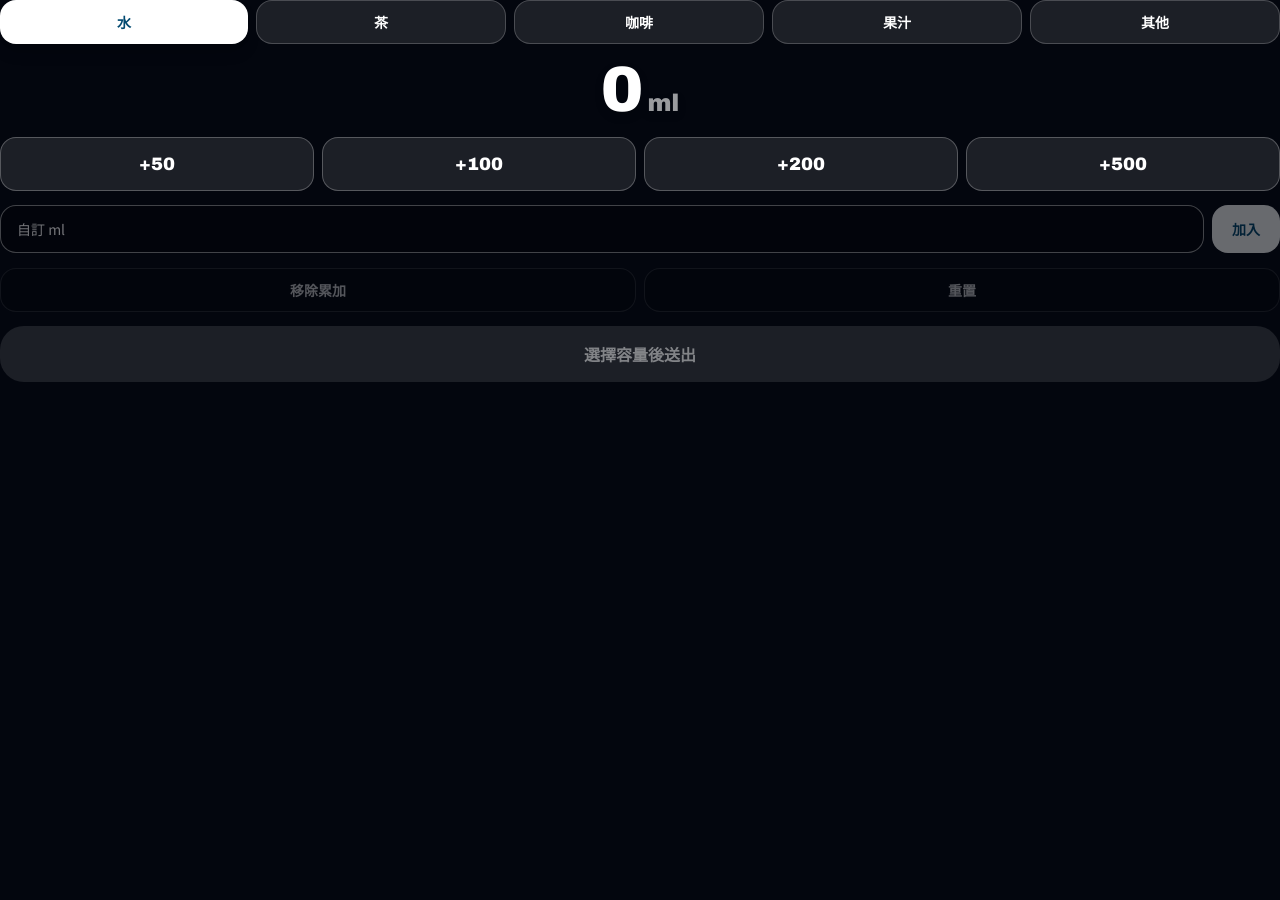
Scenario: DrinkLogger — overflow dialog (>2000ml) › shows overflow dialog when total exceeds 2000
Click the button "+500".
click(1123, 164)  # box [966, 137, 1279, 191]
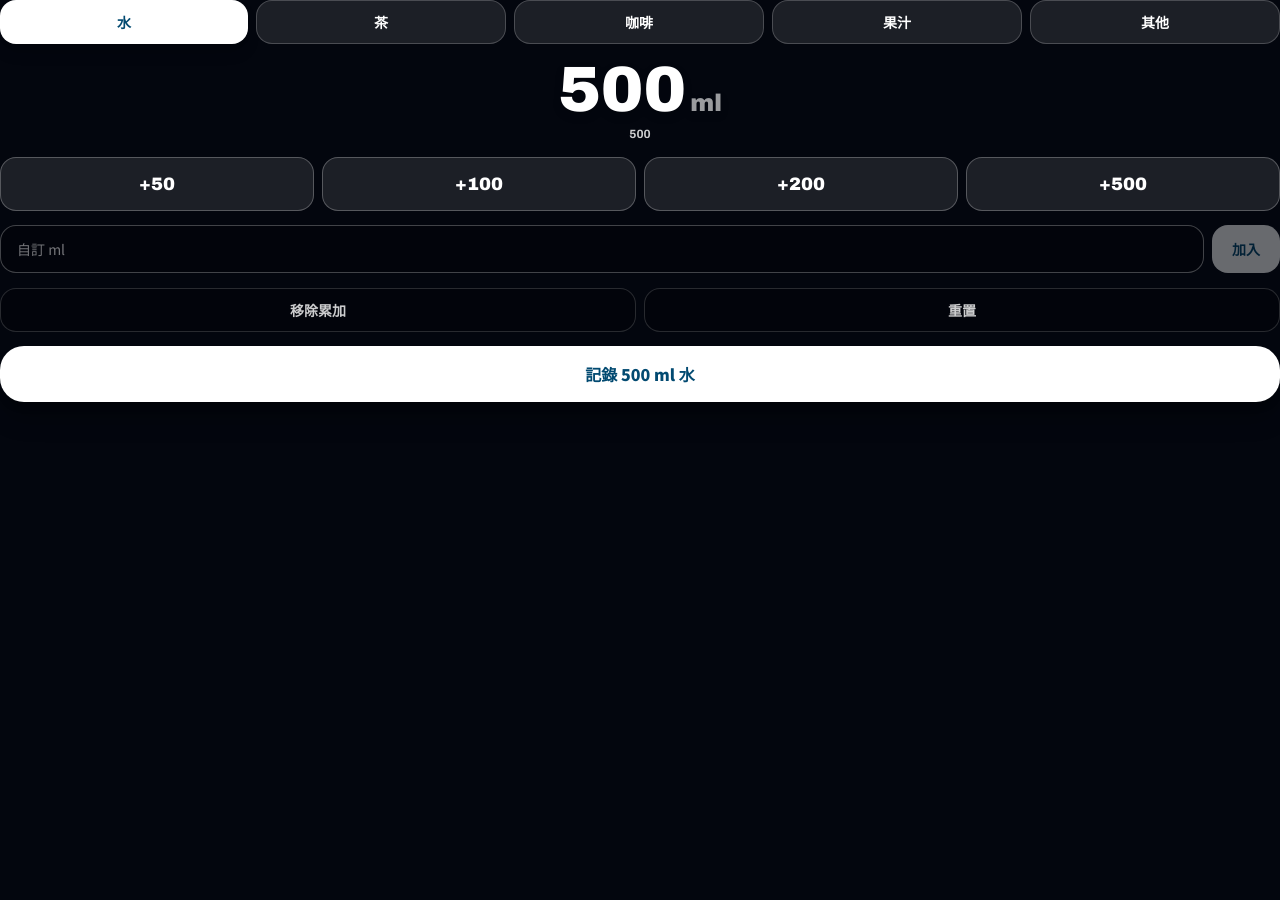
Click the button "+500".
click(1123, 184)  # box [966, 157, 1279, 211]
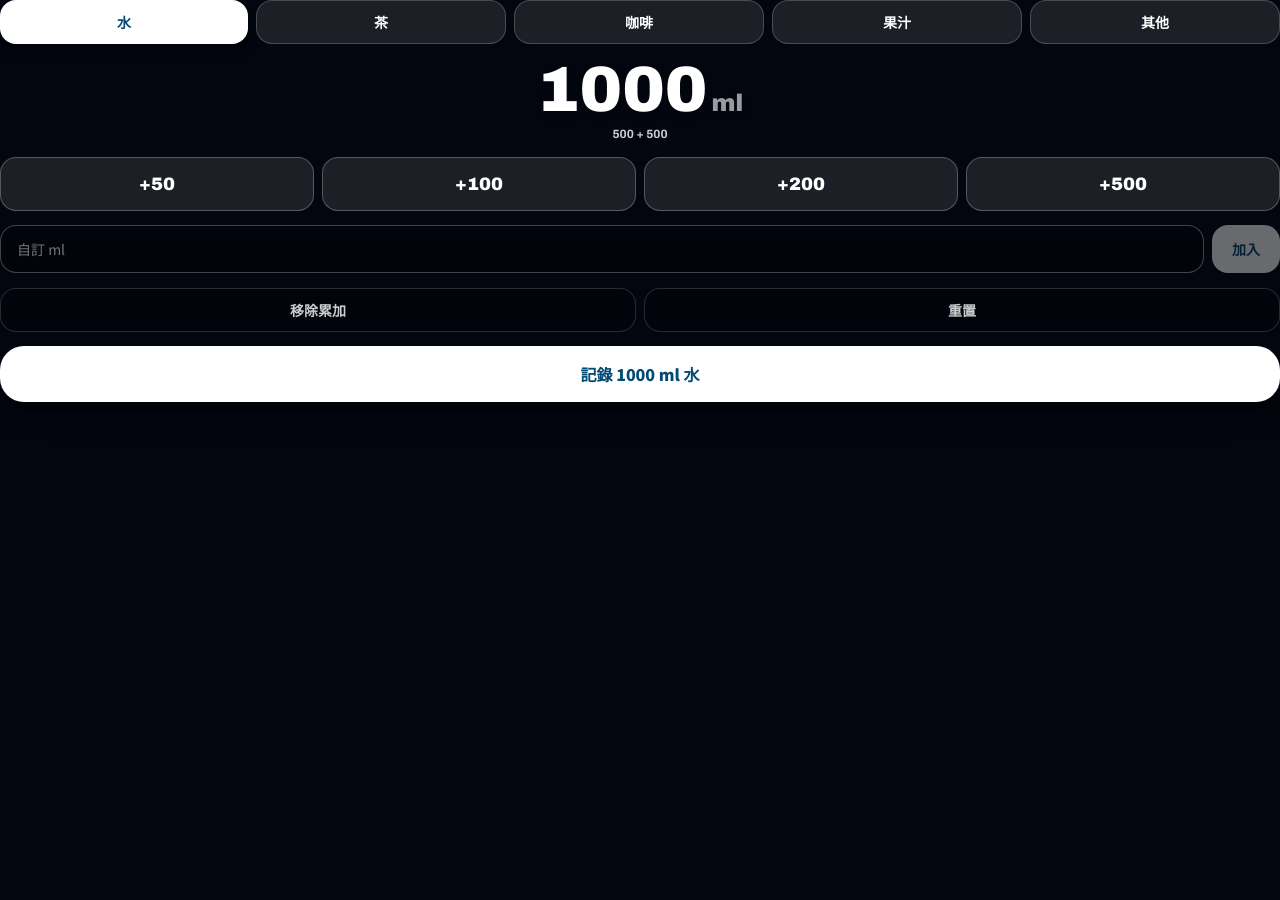
Click the button "+500".
click(1123, 184)  # box [966, 157, 1279, 211]
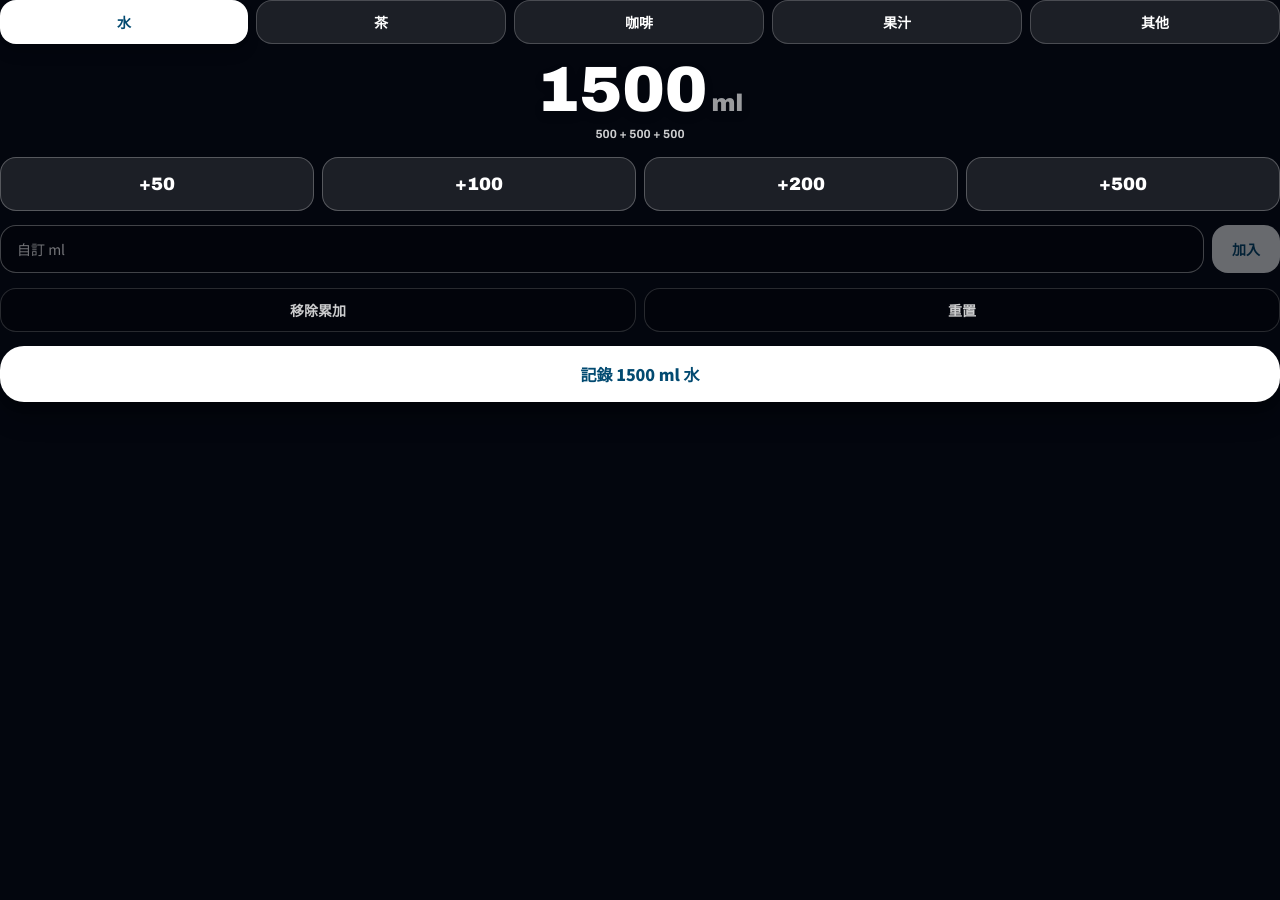
Click the button "+500".
click(1123, 184)  # box [966, 157, 1279, 211]
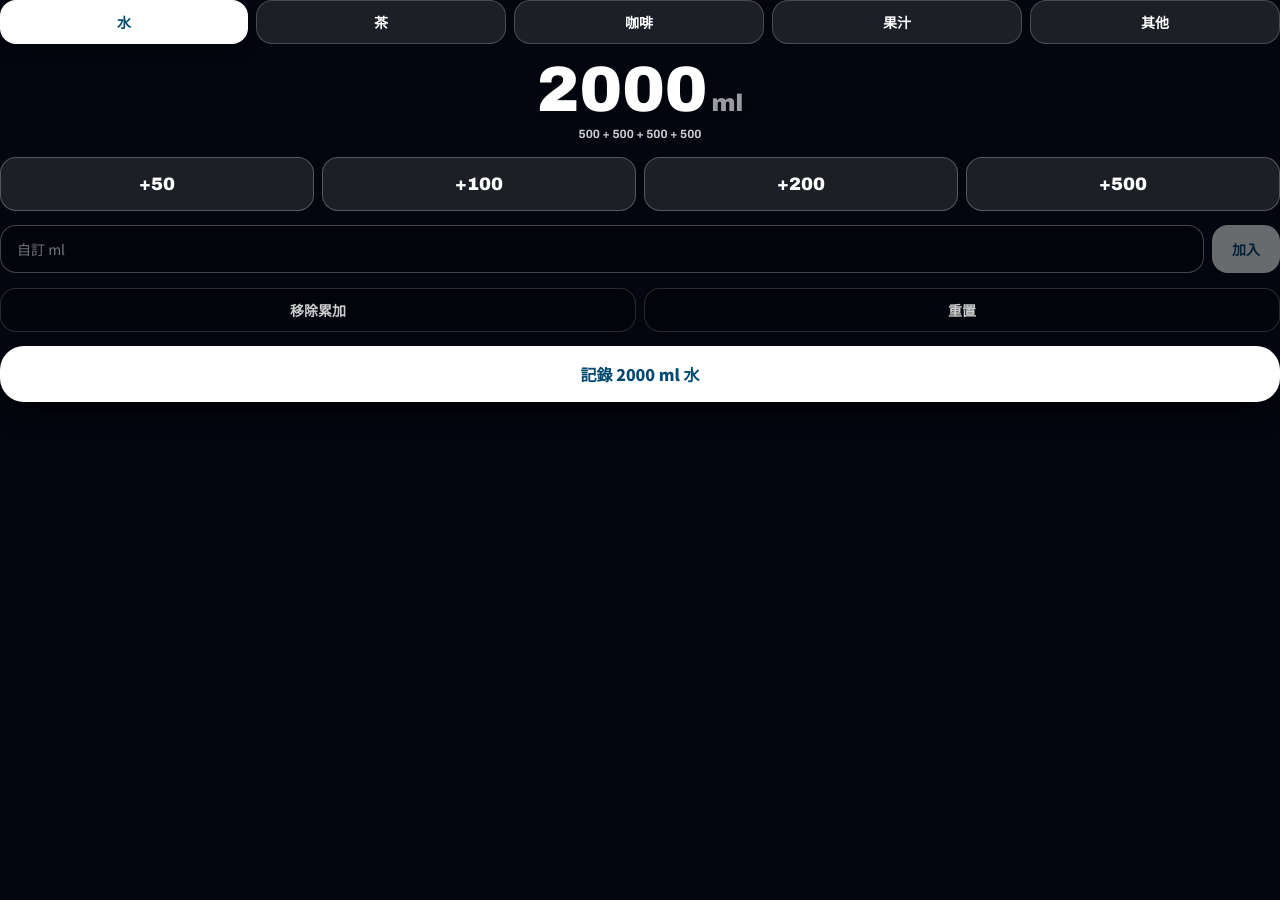
Click the button "+500".
click(1123, 184)  # box [966, 157, 1279, 211]
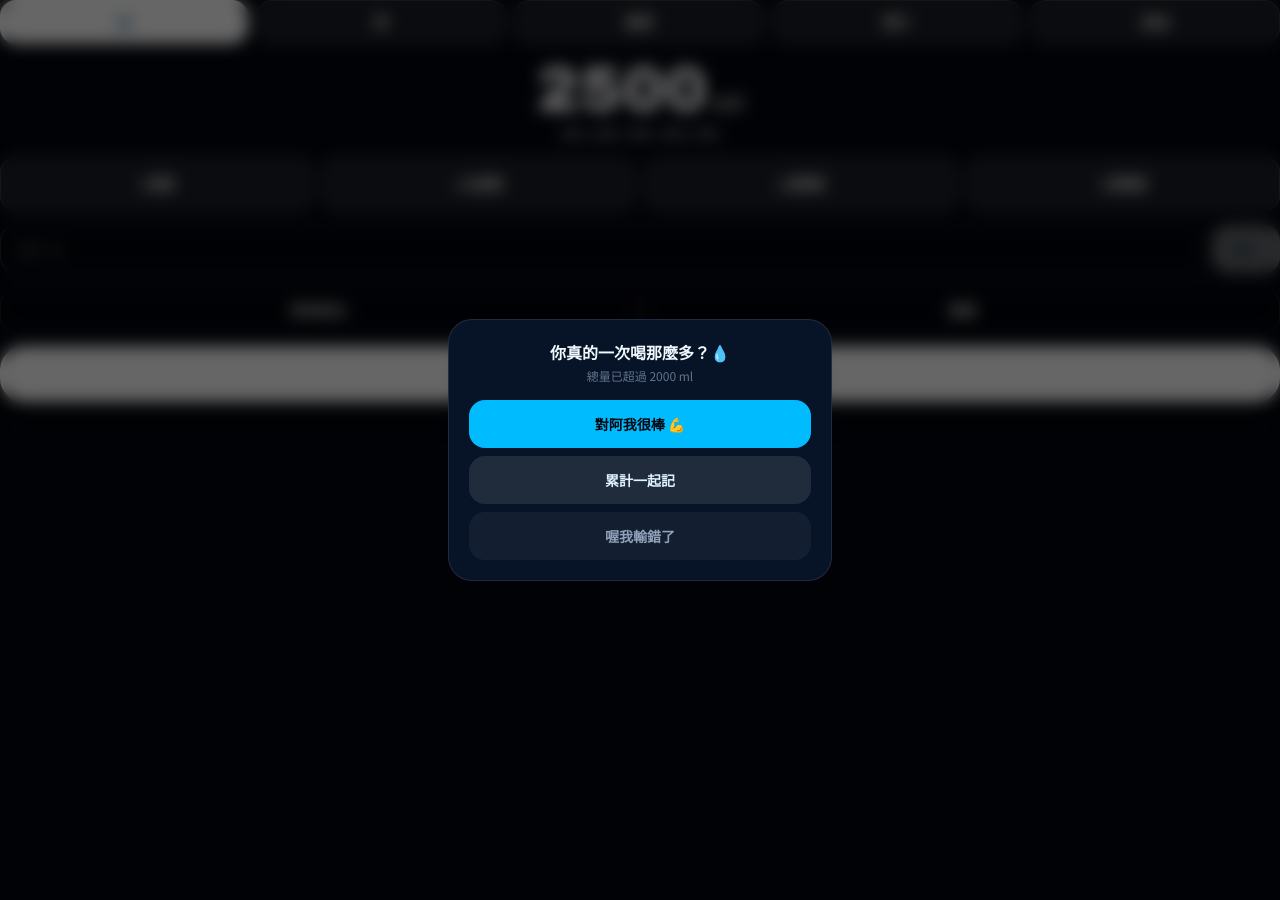
Check: the heading "你真的一次喝那麼多？💧" is shown, box [550, 340, 730, 364]
